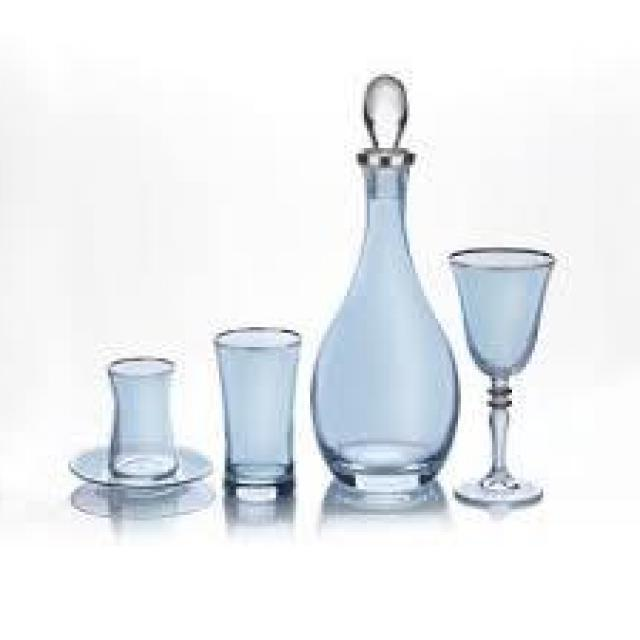glass: (302, 67, 464, 500), (440, 243, 568, 508), (64, 348, 220, 496), (212, 324, 312, 498)
